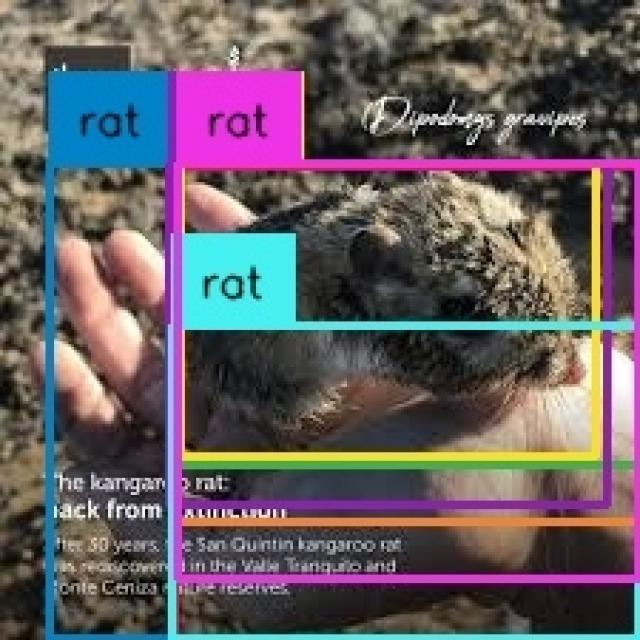rat: (48, 164, 640, 638), (173, 165, 640, 640), (179, 165, 640, 580), (176, 164, 640, 522), (171, 163, 608, 505), (170, 325, 640, 638), (177, 165, 638, 464), (182, 165, 595, 458)
